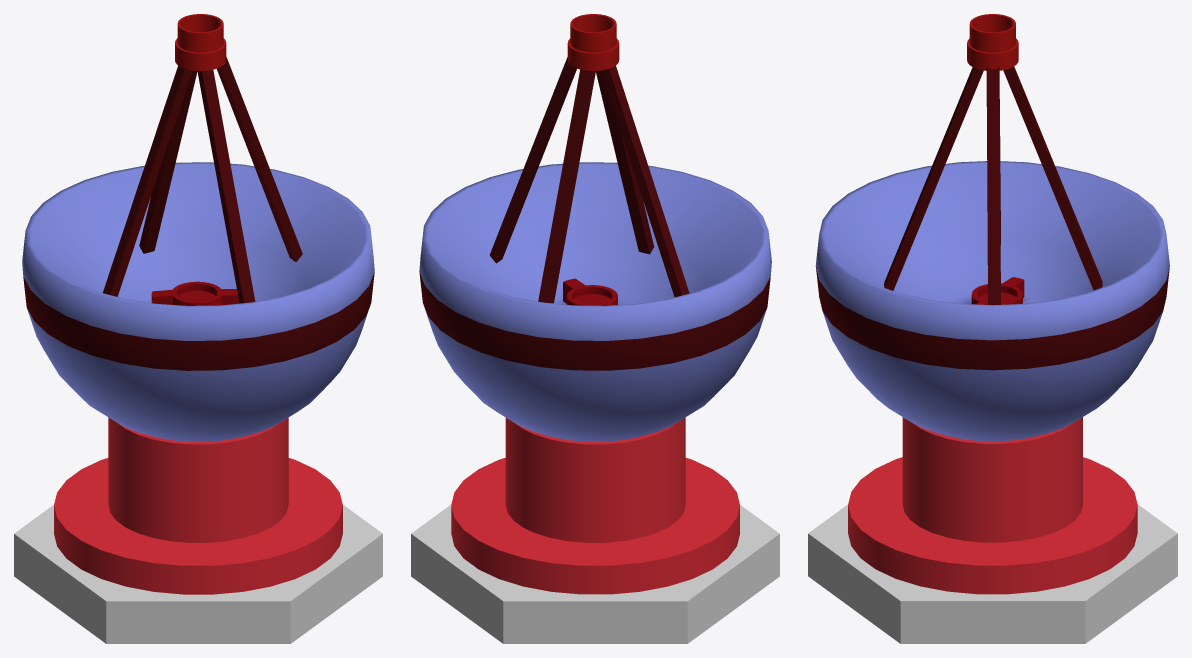
The model's file is Spy.glb.
The picture shows the model from 3 angles, left to right: view 1: azimuth 30°, elevation 25°; view 2: azimuth 150°, elevation 25°; view 3: azimuth 270°, elevation 25°; orthographic projection.
Visible parts, largest first — view 1: Sphere.001; view 2: Sphere.001; view 3: Sphere.001.
Part boxes in pixels (bbox=[...]): Sphere.001: bbox=[14, 14, 382, 643]; Sphere.001: bbox=[411, 14, 779, 643]; Sphere.001: bbox=[808, 14, 1177, 643].
Size of the model in its own units: 1.76 by 3.04 by 1.84.
